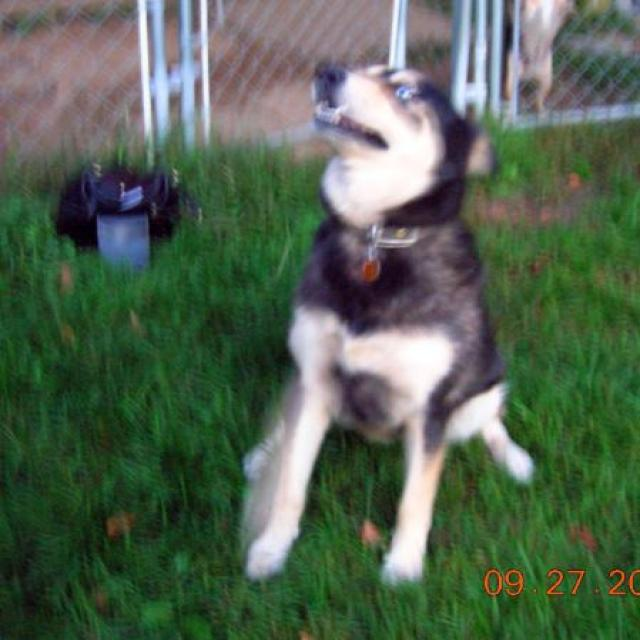dogs: (237, 62, 533, 586)
